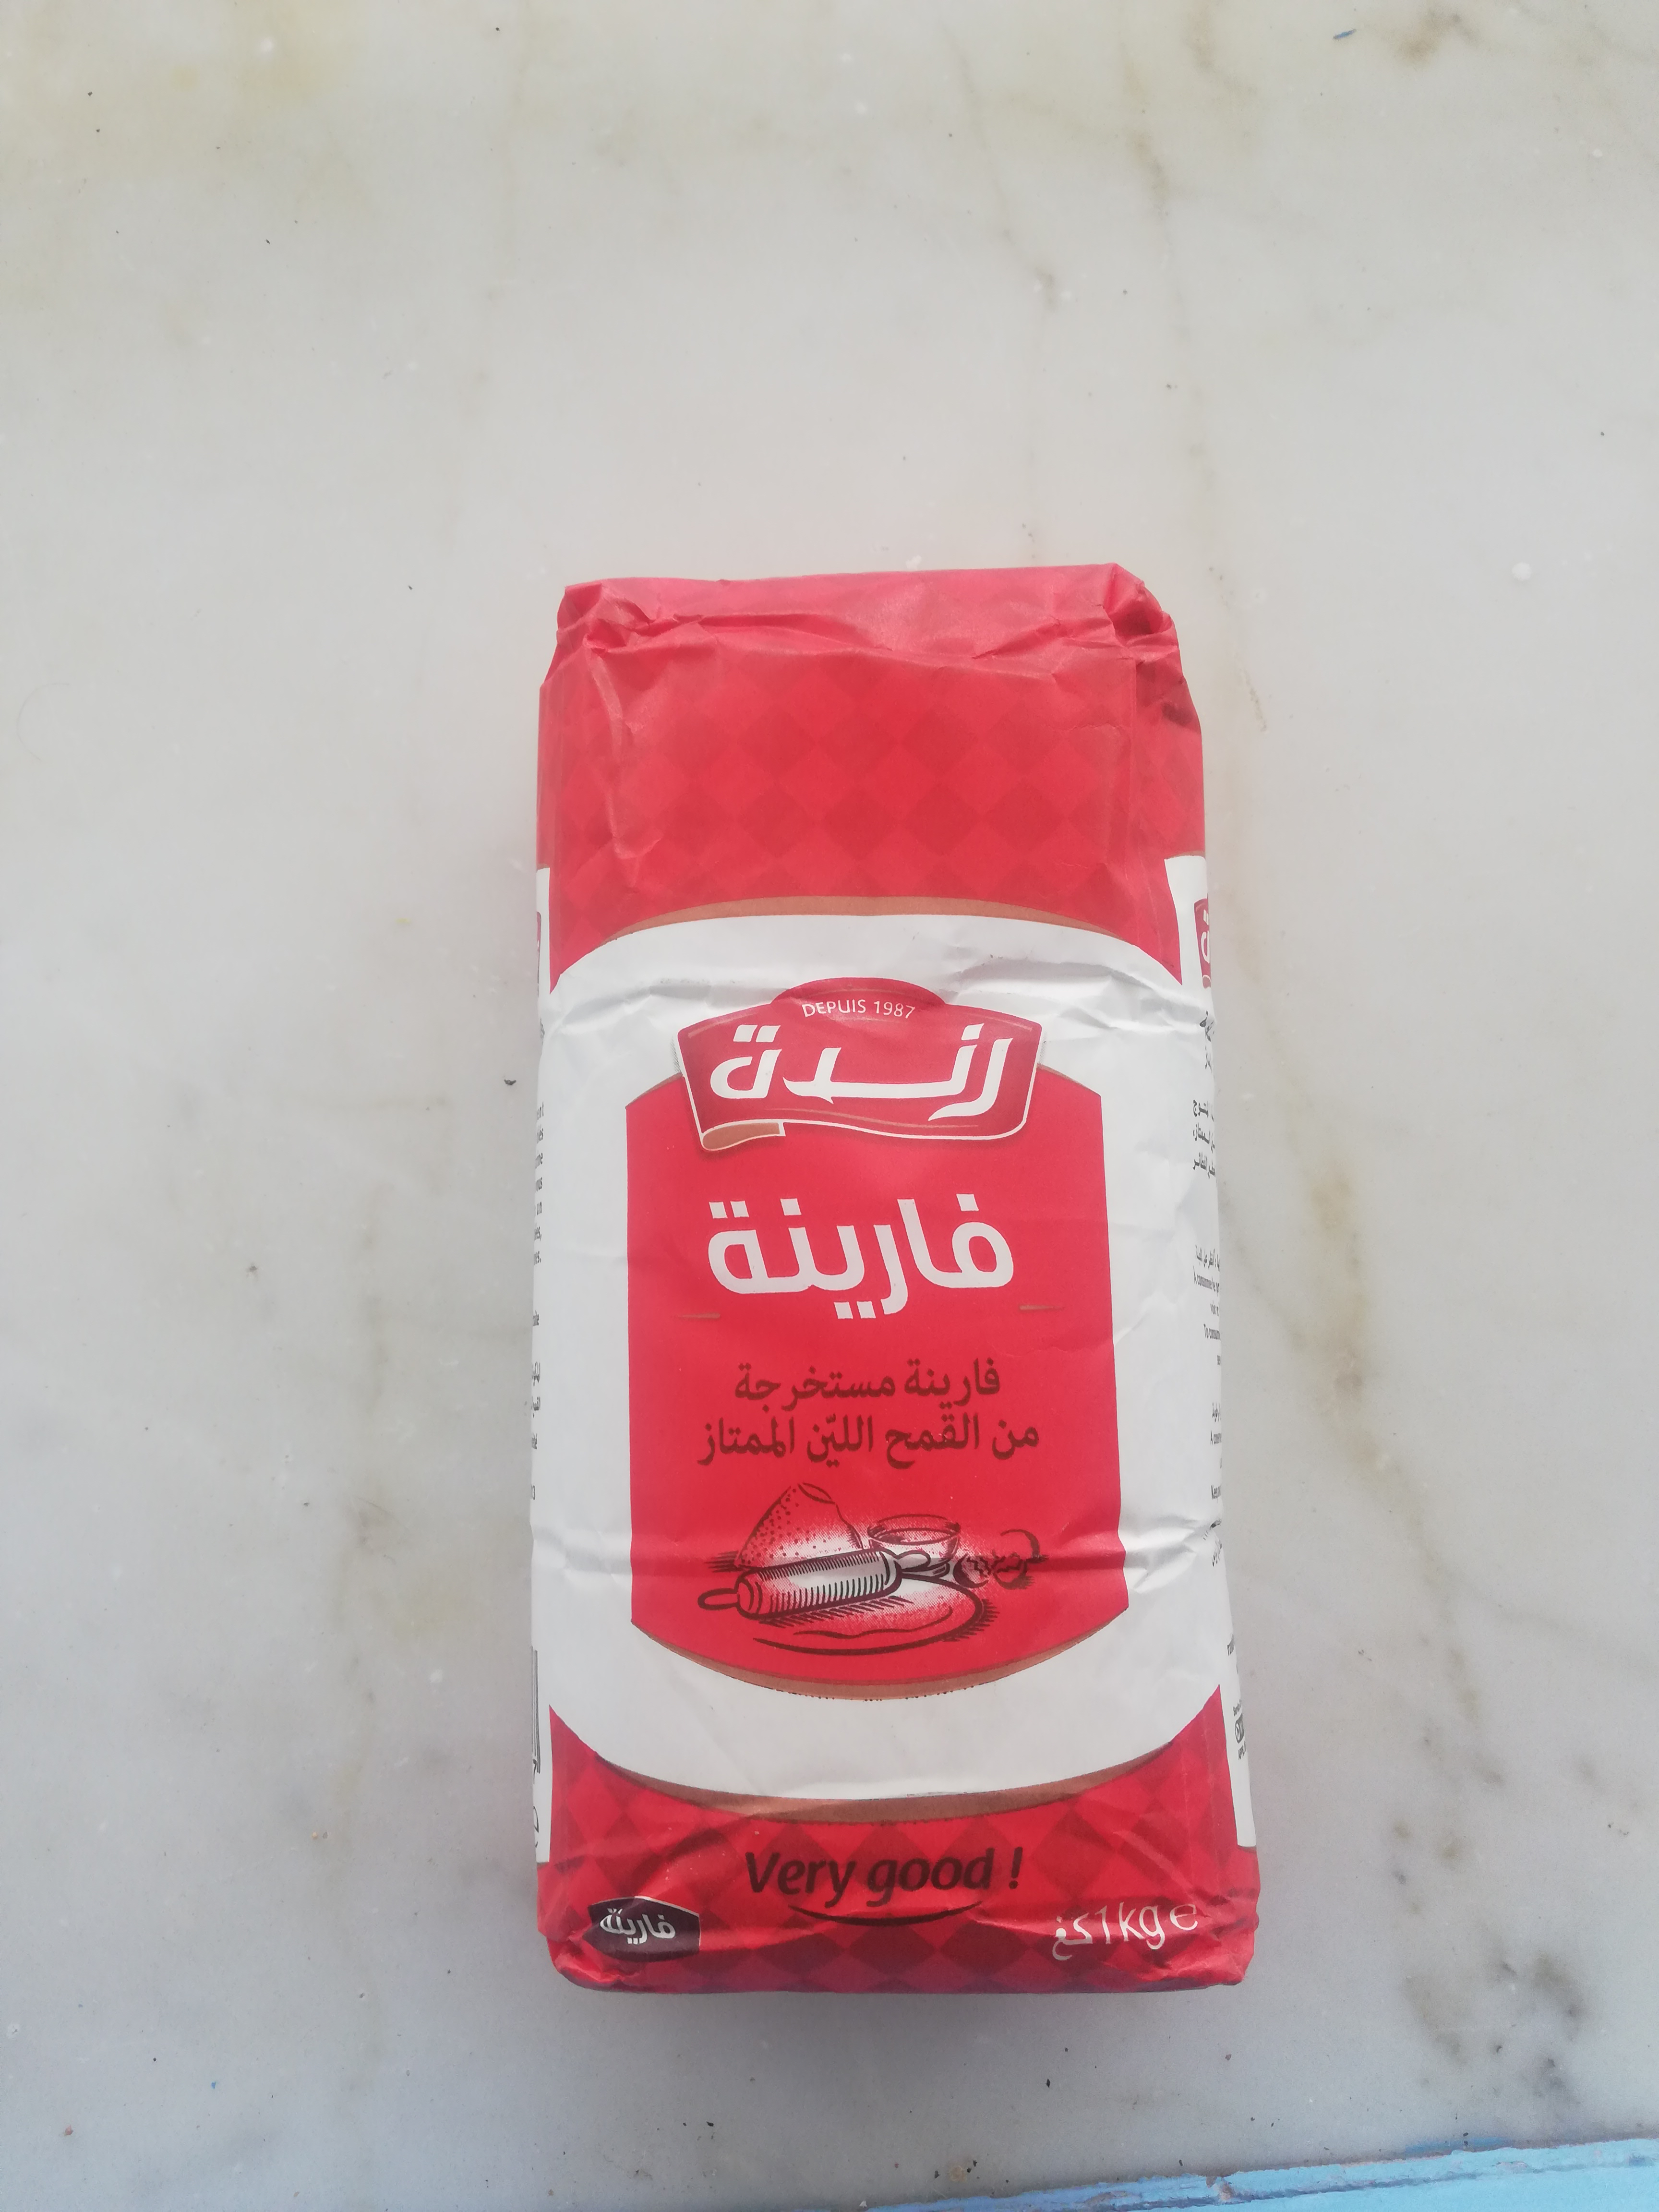Farine Randa: (528, 564, 1269, 1991)
